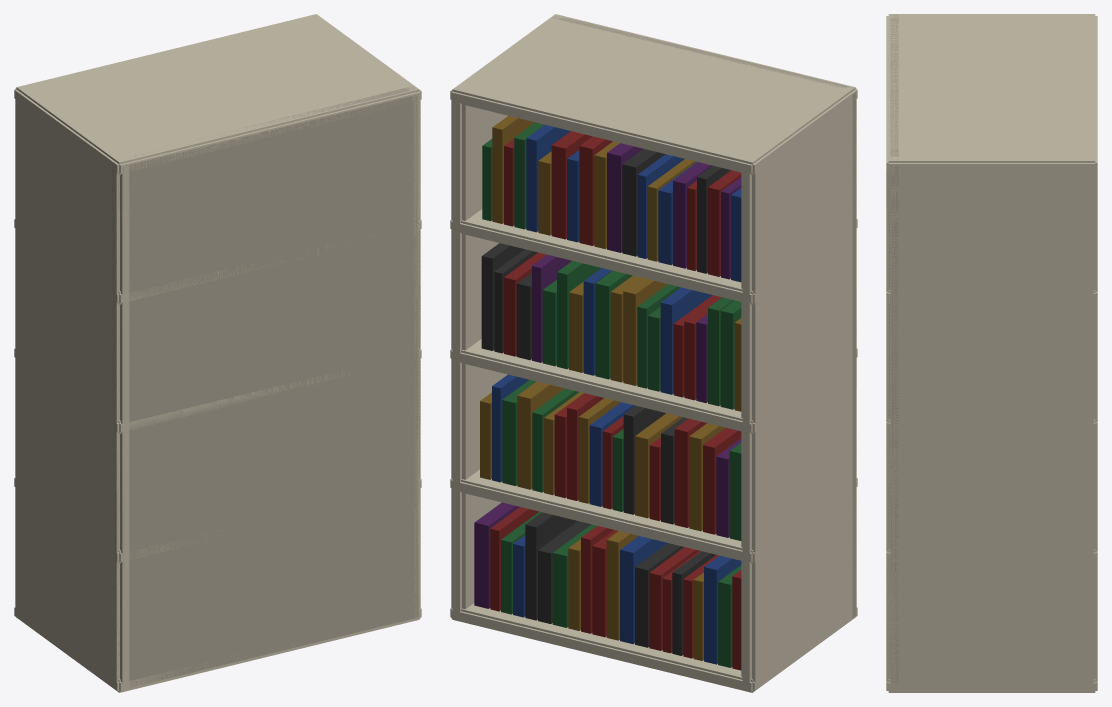
Rendered from bone_bookcase_v0.glb.
The picture shows the model from 3 angles, left to right: view 1: azimuth 30°, elevation 25°; view 2: azimuth 150°, elevation 25°; view 3: azimuth 270°, elevation 25°; orthographic projection.
Visible parts, largest first — view 1: bone_bookcase_v0; view 2: bone_bookcase_v0; view 3: bone_bookcase_v0.
Part boxes in pixels (x1,y1,x2,y2): bone_bookcase_v0: (14,14,421,692); bone_bookcase_v0: (450,14,857,692); bone_bookcase_v0: (886,14,1097,692).
Bounding box in the file's own units: 1.5 × 2.5 × 0.9.
